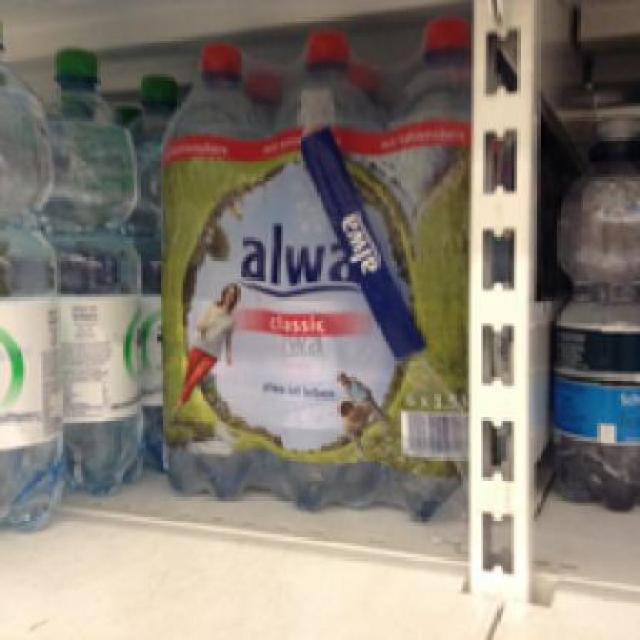Water: (263, 22, 380, 512), (368, 9, 463, 532), (154, 42, 260, 492), (46, 46, 146, 492)
